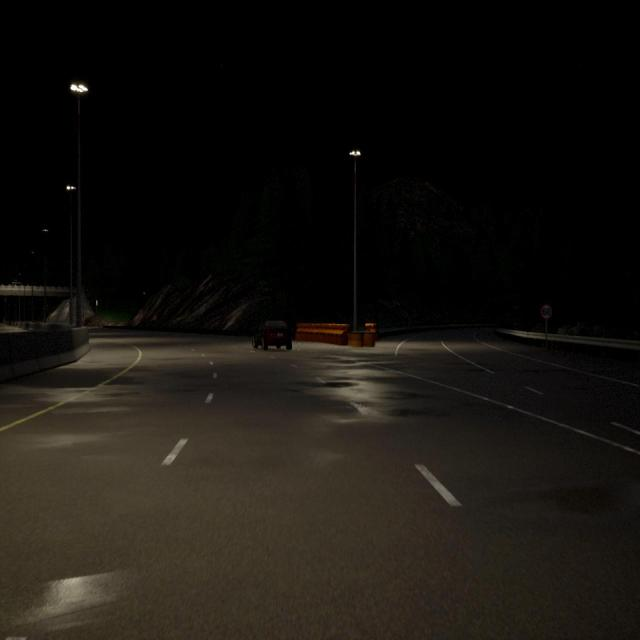Traffic_Signs: (541, 305, 552, 318), (153, 315, 157, 320)
Vehicle: (252, 320, 292, 350)
